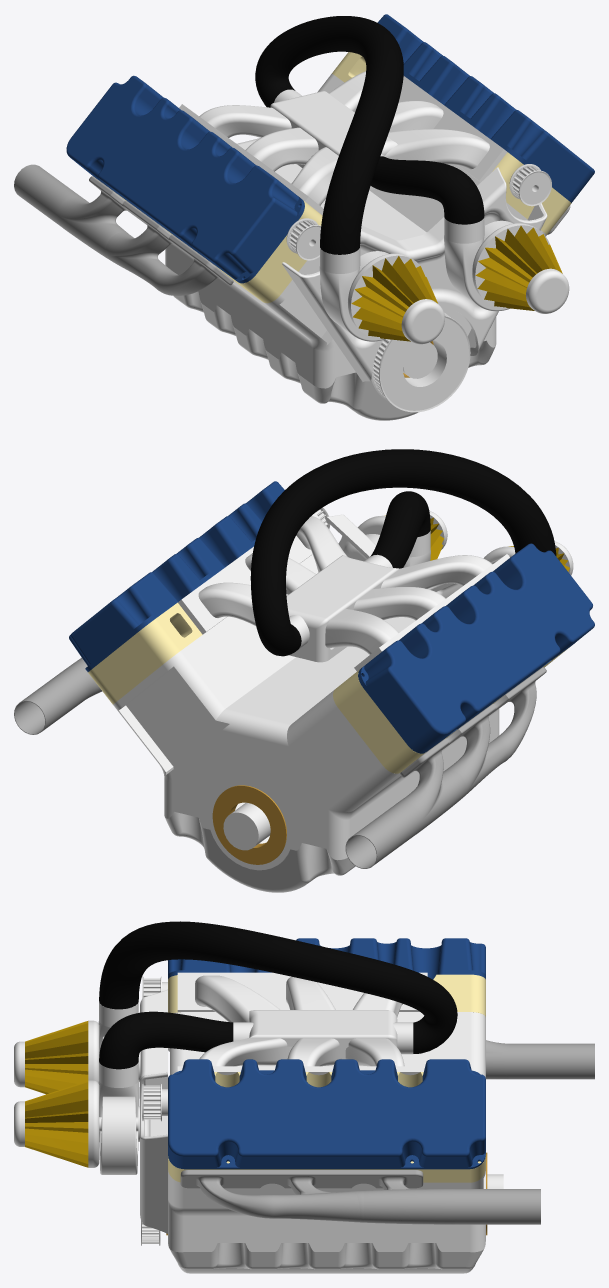
The model's file is v6-twin-turbo.glb.
3 renders of one model, top to bottom at view 1: azimuth 30°, elevation 25°; view 2: azimuth 150°, elevation 25°; view 3: azimuth 270°, elevation 25°, orthographic. The views are drawn at different scales.
Visible parts, largest first — view 1: Solid1 (×14), Solid2 (×5); view 2: Solid1 (×13), Solid2 (×4); view 3: Solid1 (×12), Solid2 (×5).
Part boxes in pixels (x1,y1,x2,y2): Solid1 (×14): (14, 14, 594, 420); Solid2 (×5): (165, 73, 569, 373); Solid1 (×13): (14, 449, 594, 892); Solid2 (×4): (113, 511, 573, 844); Solid1 (×12): (99, 921, 594, 1273); Solid2 (×5): (14, 1001, 485, 1237).
Size of the model in its own units: 0.7171 by 0.6007 by 0.928.
